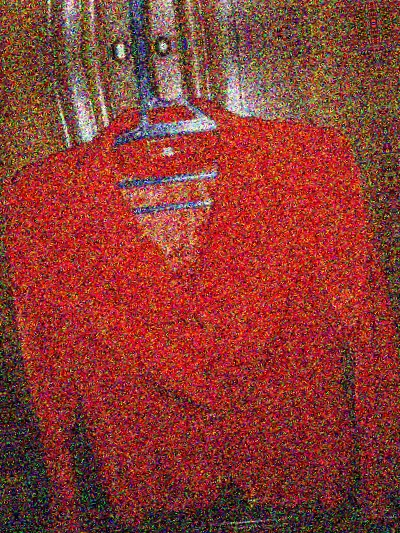Blazer: (0, 86, 400, 533), (0, 130, 14, 533), (396, 40, 400, 515), (0, 0, 352, 5)
